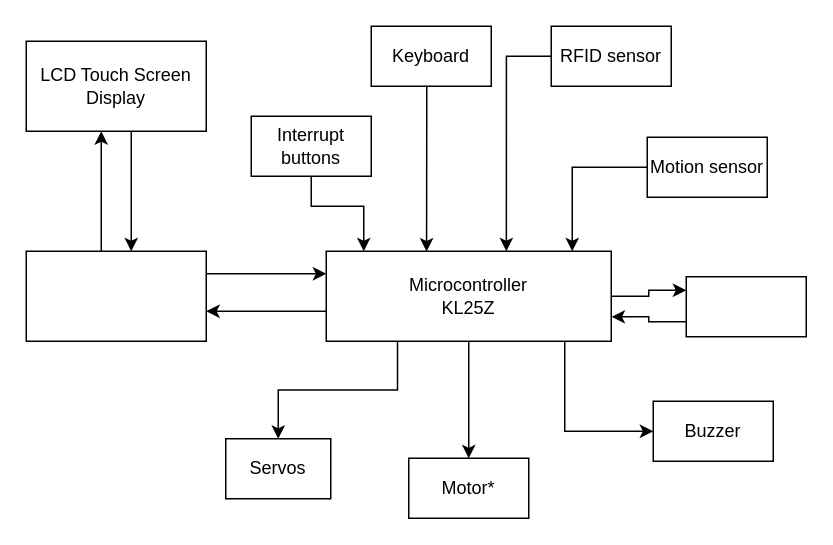
This 833x545 diagram has some shape labels left out. The shapes that lost their labels are listed below. From the top down, each one's centre as x and y in pixels, then its label:
At (x=115, y=295): "Microcontroller Arduino Mega".
At (x=745, y=306): "WIFI module".
